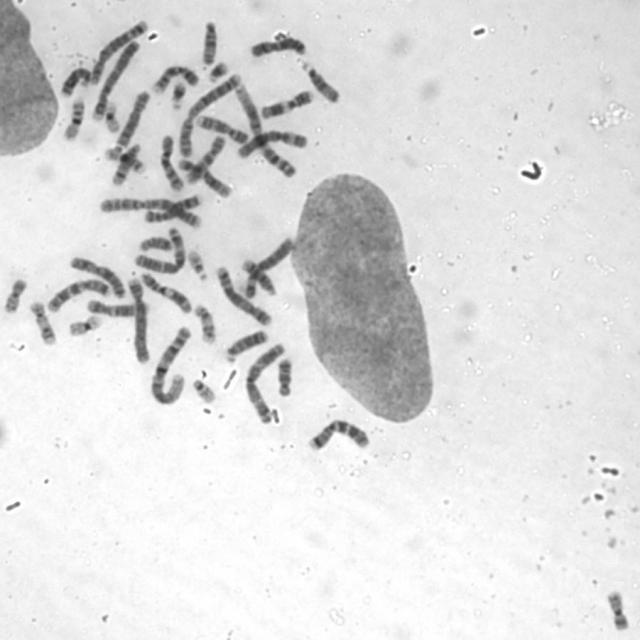A1: (231, 80, 298, 181), (146, 324, 193, 406)
A2: (175, 71, 242, 158), (95, 193, 205, 229)
A3: (241, 339, 287, 425), (132, 223, 188, 275)
B4: (88, 35, 141, 122), (124, 274, 151, 365)
B5: (86, 15, 150, 85), (213, 261, 274, 328)
C10: (182, 132, 228, 185), (156, 130, 186, 193)
C11: (137, 270, 193, 316), (258, 85, 316, 122)
C12: (175, 154, 233, 200), (83, 295, 151, 318)
C6: (240, 233, 296, 299), (233, 126, 309, 161)
C7: (306, 415, 372, 453), (45, 276, 111, 313)
C8: (113, 88, 151, 149), (140, 190, 204, 224)
C9: (194, 112, 249, 145), (150, 62, 200, 95)
D13: (222, 327, 270, 364), (57, 63, 99, 99)
D14: (236, 256, 278, 297), (109, 140, 142, 187)
D15: (299, 58, 342, 105), (198, 18, 219, 68)
E16: (103, 147, 147, 176), (61, 96, 88, 142)
E17: (28, 298, 58, 347), (191, 301, 217, 346)
E18: (274, 354, 294, 398), (138, 235, 172, 253)
F19: (65, 312, 104, 338), (103, 99, 121, 134)
F20: (604, 586, 631, 632), (1, 275, 28, 314)
G21: (167, 78, 187, 110), (205, 59, 231, 83)
G22: (185, 246, 210, 282), (190, 375, 217, 404)
X: (67, 253, 128, 300), (247, 33, 308, 59)
